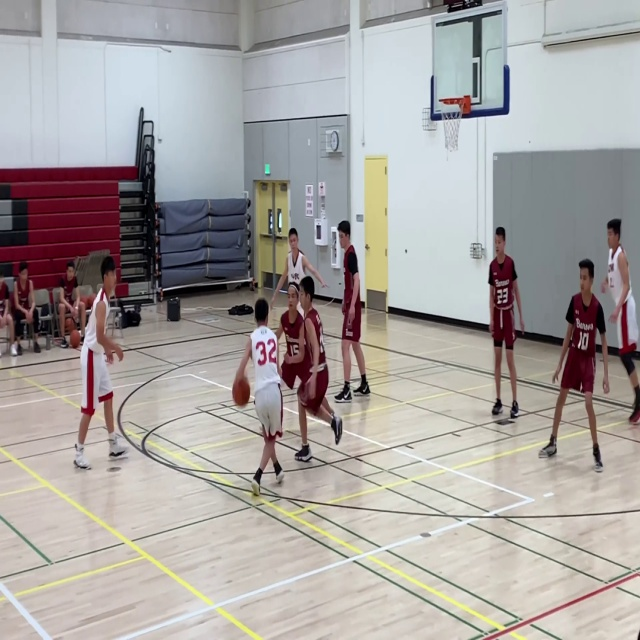Basketball: (232, 376, 250, 405), (69, 329, 81, 348), (64, 318, 75, 333)
